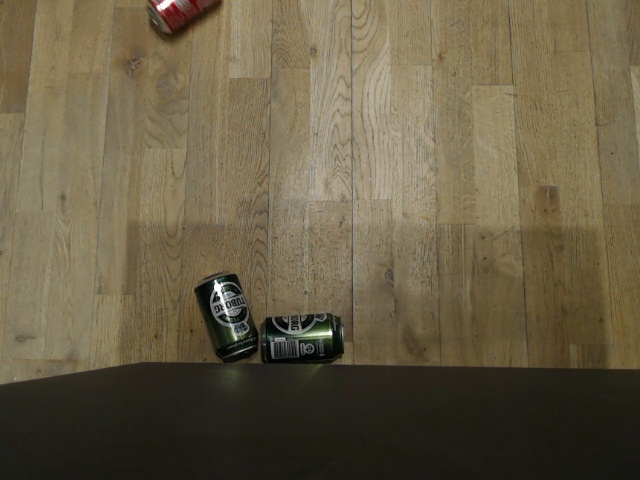beer: (195, 269, 260, 360), (262, 312, 344, 358)
cola: (146, 0, 225, 34)
